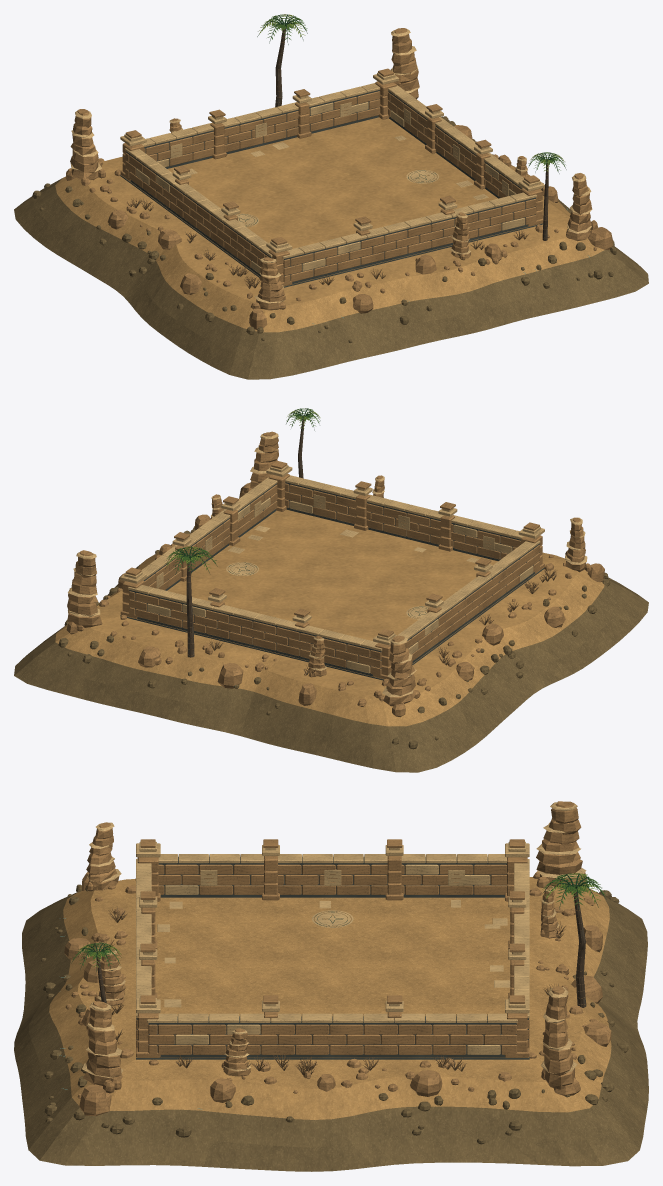
File: realm_01.fbx
The picture shows the model from 3 angles, top to bottom: view 1: azimuth 30°, elevation 25°; view 2: azimuth 150°, elevation 25°; view 3: azimuth 270°, elevation 25°; orthographic projection. The views are drawn at different scales.
Parts seen in each view (by area): view 1: realm_01__shore, realm_01__closed_walls, realm_01__combat_floor, realm_01__biome_dressing; view 2: realm_01__shore, realm_01__closed_walls, realm_01__combat_floor, realm_01__biome_dressing; view 3: realm_01__shore, realm_01__combat_floor, realm_01__closed_walls, realm_01__biome_dressing.
Boxes of the visible parts, x1,y1,x2,y2 form: realm_01__shore: (14, 121, 648, 379); realm_01__closed_walls: (120, 68, 544, 286); realm_01__combat_floor: (120, 117, 543, 287); realm_01__biome_dressing: (70, 14, 616, 333); realm_01__shore: (14, 482, 648, 772); realm_01__closed_walls: (120, 461, 544, 679); realm_01__combat_floor: (120, 509, 544, 680); realm_01__biome_dressing: (67, 408, 608, 706); realm_01__shore: (14, 871, 648, 1171); realm_01__combat_floor: (136, 897, 529, 1059); realm_01__closed_walls: (136, 839, 529, 1057); realm_01__biome_dressing: (65, 801, 606, 1120).
Size of the model in its own units: 112757 by 112858 by 36635.
